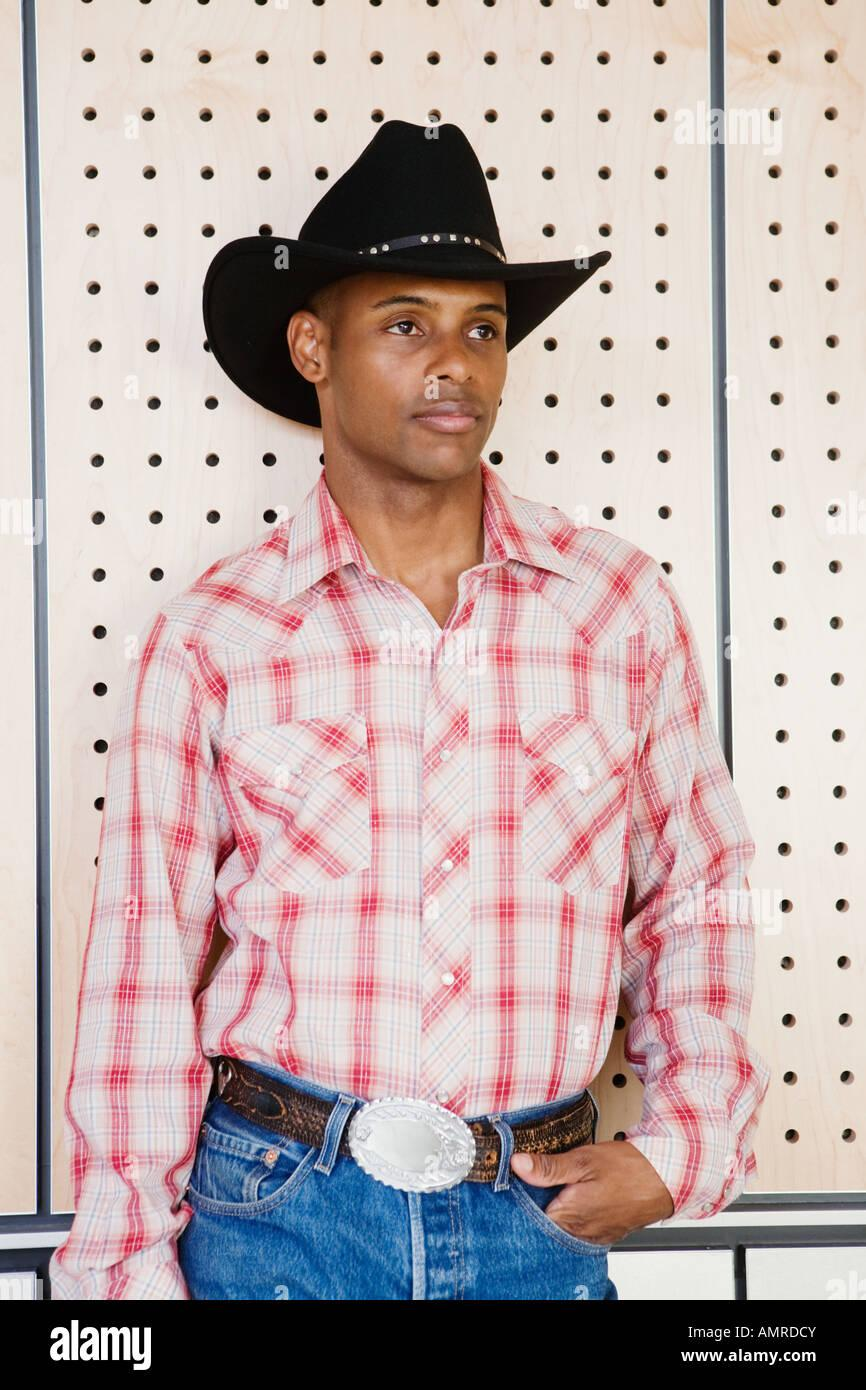cap: (163, 103, 623, 390)
